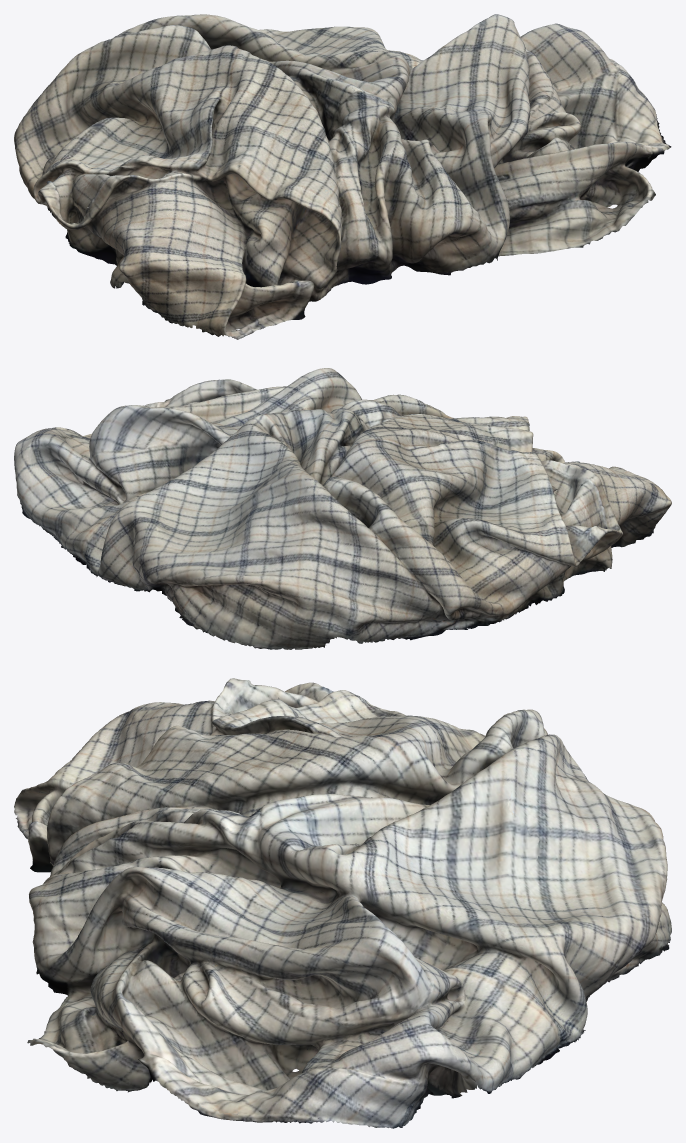
Rendered from DirtyClothes3.fbx.
3 renders of one model, top to bottom at view 1: azimuth 30°, elevation 25°; view 2: azimuth 150°, elevation 25°; view 3: azimuth 270°, elevation 25°, orthographic. The views are drawn at different scales.
Parts seen in each view (by area): view 1: scan_fabric; view 2: scan_fabric; view 3: scan_fabric.
Part boxes in pixels (x1=…): scan_fabric: x1=14, y1=14, x2=671, y2=339; scan_fabric: x1=14, y1=368, x2=671, y2=649; scan_fabric: x1=14, y1=678, x2=671, y2=1128.
Bounding box in the file's own units: 37.44 × 8.48 × 28.43.
1 material, 1 textured.
